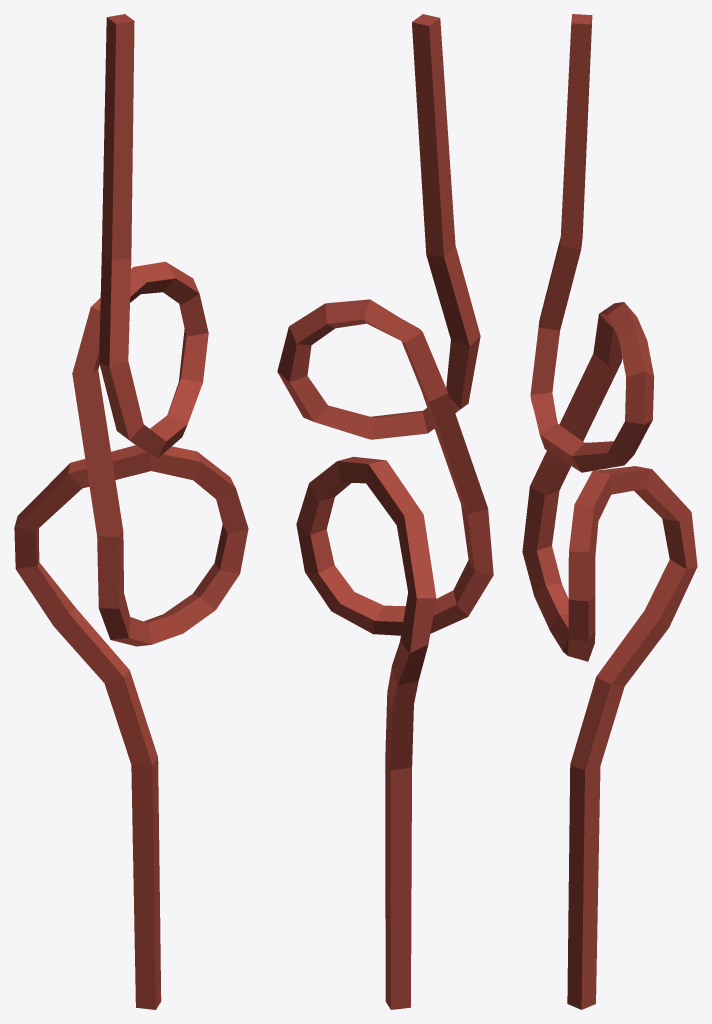
File: SM_Prop_Straw_01.obj
The picture shows the model from 3 angles, left to right: view 1: azimuth 30°, elevation 25°; view 2: azimuth 150°, elevation 25°; view 3: azimuth 270°, elevation 25°; orthographic projection. The views are drawn at different scales.
Visible parts, largest first — view 1: SM_Prop_Straw_01_0; view 2: SM_Prop_Straw_01_0; view 3: SM_Prop_Straw_01_0.
Boxes of the visible parts, x1,y1,x2,y2 form: SM_Prop_Straw_01_0: [14, 14, 248, 1009]; SM_Prop_Straw_01_0: [277, 14, 493, 1009]; SM_Prop_Straw_01_0: [522, 14, 697, 1009].
Size of the model in its own units: 0.0825 by 0.4241 by 0.0693.
Materials: 1 (1 with a texture image).
